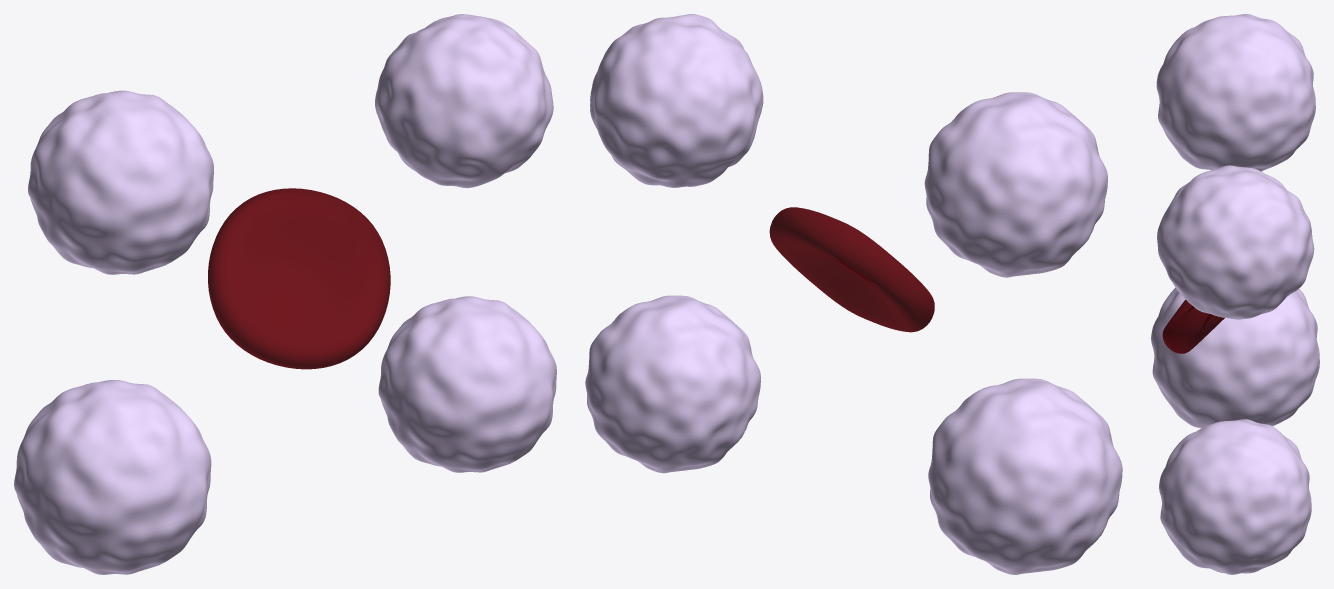
Rendered from Lymphocyte.glb.
3 renders of one model, left to right at view 1: azimuth 30°, elevation 25°; view 2: azimuth 150°, elevation 25°; view 3: azimuth 270°, elevation 25°, orthographic. The views are drawn at different scales.
Visible parts, largest first — view 1: Membrane, Membrane.003, Erythrocyte, Membrane.002, Membrane.001; view 2: Membrane, Membrane.003, Membrane.002, Membrane.001, Erythrocyte; view 3: Membrane.003, Membrane.002, Membrane.001, Membrane, Erythrocyte.
Boxes of the visible parts, <box> form: Membrane: <box>14,380,211,574</box>; Membrane.003: <box>28,90,213,274</box>; Erythrocyte: <box>208,188,390,369</box>; Membrane.002: <box>378,296,556,472</box>; Membrane.001: <box>375,14,553,188</box>; Membrane: <box>928,378,1122,574</box>; Membrane.003: <box>924,92,1107,277</box>; Membrane.002: <box>585,295,760,473</box>; Membrane.001: <box>590,14,763,187</box>; Erythrocyte: <box>769,207,934,332</box>; Membrane.003: <box>1156,14,1315,171</box>; Membrane.002: <box>1159,419,1311,574</box>; Membrane.001: <box>1157,165,1314,319</box>; Membrane: <box>1151,288,1319,428</box>; Erythrocyte: <box>1162,299,1224,353</box>.
Size of the model in its own units: 8.32 by 7.22 by 2.69.
